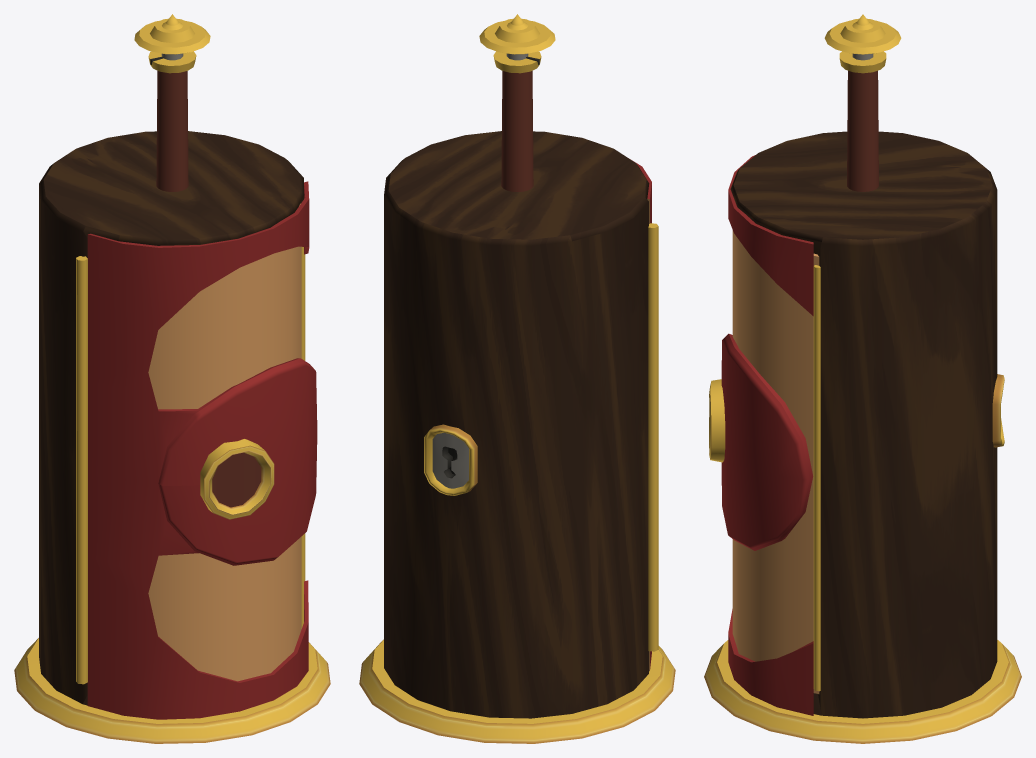
Rendered from altarOfPe_animv002.fbx.
The picture shows the model from 3 angles, left to right: view 1: azimuth 30°, elevation 25°; view 2: azimuth 150°, elevation 25°; view 3: azimuth 270°, elevation 25°; orthographic projection.
Visible parts, largest first — view 1: AltarOuterDoor, Alter_Main, AltarInnerDoor, alterBase, alter_rod; view 2: Alter_Main, alterBase, alter_rod; view 3: Alter_Main, AltarOuterDoor, AltarInnerDoor, alterBase, alter_rod.
Part boxes in pixels (box(x1,y1,x2,y2)): AltarOuterDoor: box(87, 181, 317, 719); Alter_Main: box(39, 131, 305, 705); AltarInnerDoor: box(148, 203, 301, 681); alterBase: box(14, 638, 330, 743); alter_rod: box(134, 14, 210, 191); Alter_Main: box(384, 131, 658, 718); alterBase: box(359, 639, 675, 743); alter_rod: box(479, 14, 555, 191); Alter_Main: box(730, 131, 1004, 718); AltarOuterDoor: box(709, 155, 813, 715); AltarInnerDoor: box(732, 230, 819, 693); alterBase: box(704, 640, 1021, 743); alter_rod: box(824, 14, 901, 191).
Size of the model in its own units: 11.61 by 26.69 by 11.61.
